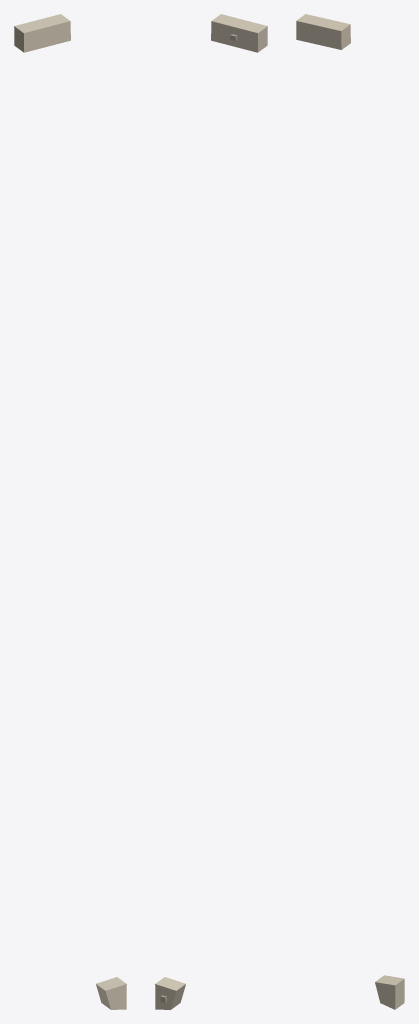
The model's file is historic-palestine-14_28_3557_3222.glb.
3 renders of one model, left to right at view 1: azimuth 30°, elevation 25°; view 2: azimuth 150°, elevation 25°; view 3: azimuth 330°, elevation 25°, orthographic. The views are drawn at different scales.
Visible parts, largest first — view 1: Building_.001, Building_; view 2: Building_.001, Building_; view 3: Building_.001, Building_.
Boxes of the visible parts, x1,y1,x2,y2 form: Building_.001: (14,14,70,52); Building_: (96,977,126,1009); Building_.001: (211,14,267,52); Building_: (155,977,185,1009); Building_.001: (296,14,350,49); Building_: (375,975,404,1009).
Size of the model in its own units: 45.91 by 427 by 8.7.
